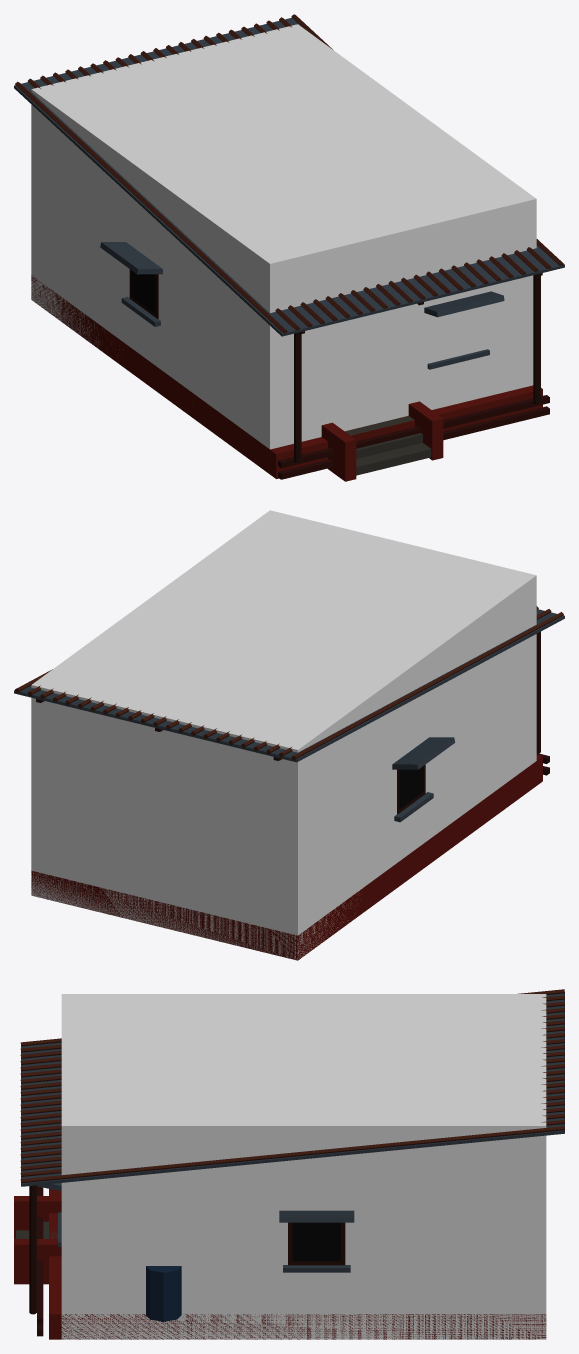
The model's file is K03_canal_informal.glb.
The picture shows the model from 3 angles, top to bottom: view 1: azimuth 30°, elevation 25°; view 2: azimuth 150°, elevation 25°; view 3: azimuth 270°, elevation 25°; orthographic projection.
Visible parts, largest first — view 1: COL_Main, LOD0; view 2: COL_Main, LOD0; view 3: COL_Main, LOD0.
Boxes of the visible parts, x1,y1,x2,y2 form: COL_Main: (31, 24, 536, 449); LOD0: (14, 14, 564, 481); COL_Main: (31, 510, 536, 960); LOD0: (14, 606, 564, 960); COL_Main: (61, 994, 546, 1339); LOD0: (14, 989, 564, 1339).
Size of what is drawn, in the model's own units: 5.85 by 3.78 by 8.64.
